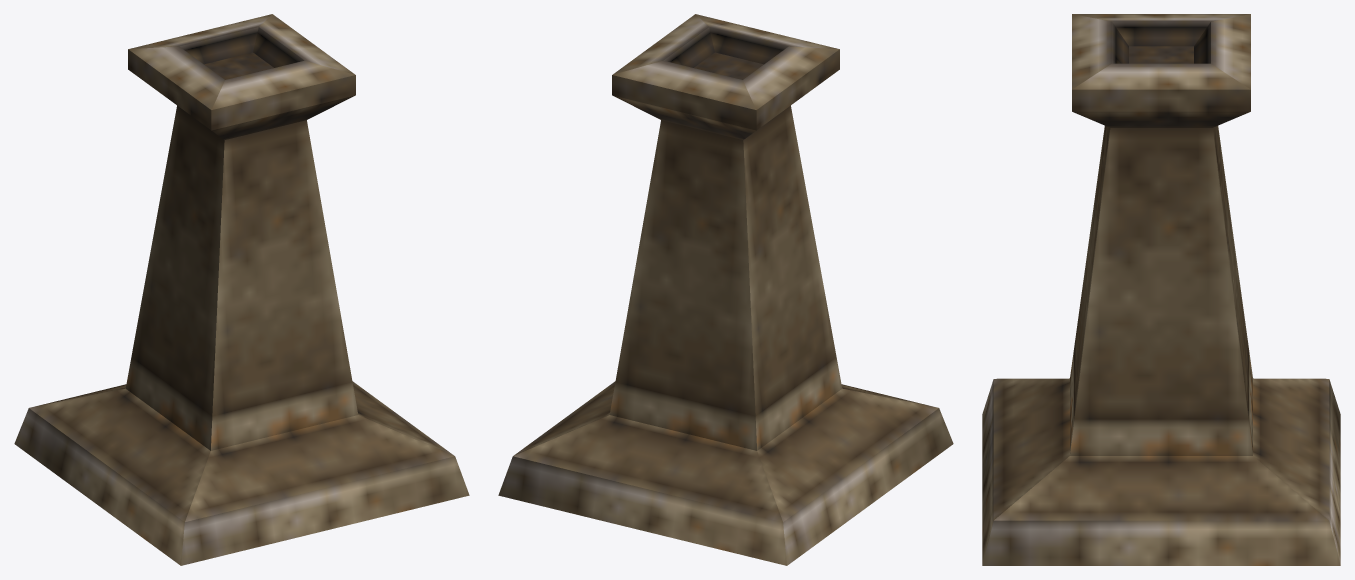
The picture shows the model from 3 angles, left to right: view 1: azimuth 30°, elevation 25°; view 2: azimuth 150°, elevation 25°; view 3: azimuth 270°, elevation 25°; orthographic projection. The views are drawn at different scales.
Parts seen in each view (by area): view 1: wj73; view 2: wj73; view 3: wj73.
Part boxes in pixels (x1,y1,x2,y2): wj73: (14, 14, 469, 565); wj73: (498, 14, 953, 565); wj73: (982, 14, 1340, 565).
Size of the model in its own units: 359 by 495 by 359.
Materials: 1 (1 with a texture image).
